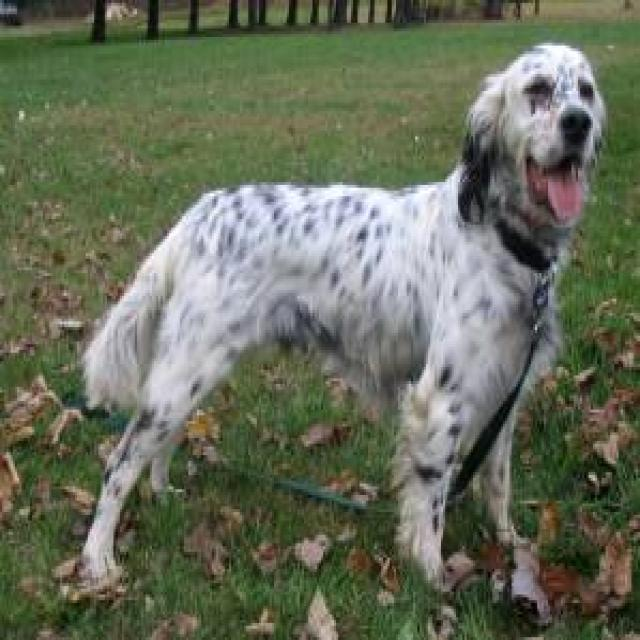dog: (64, 40, 608, 609)
